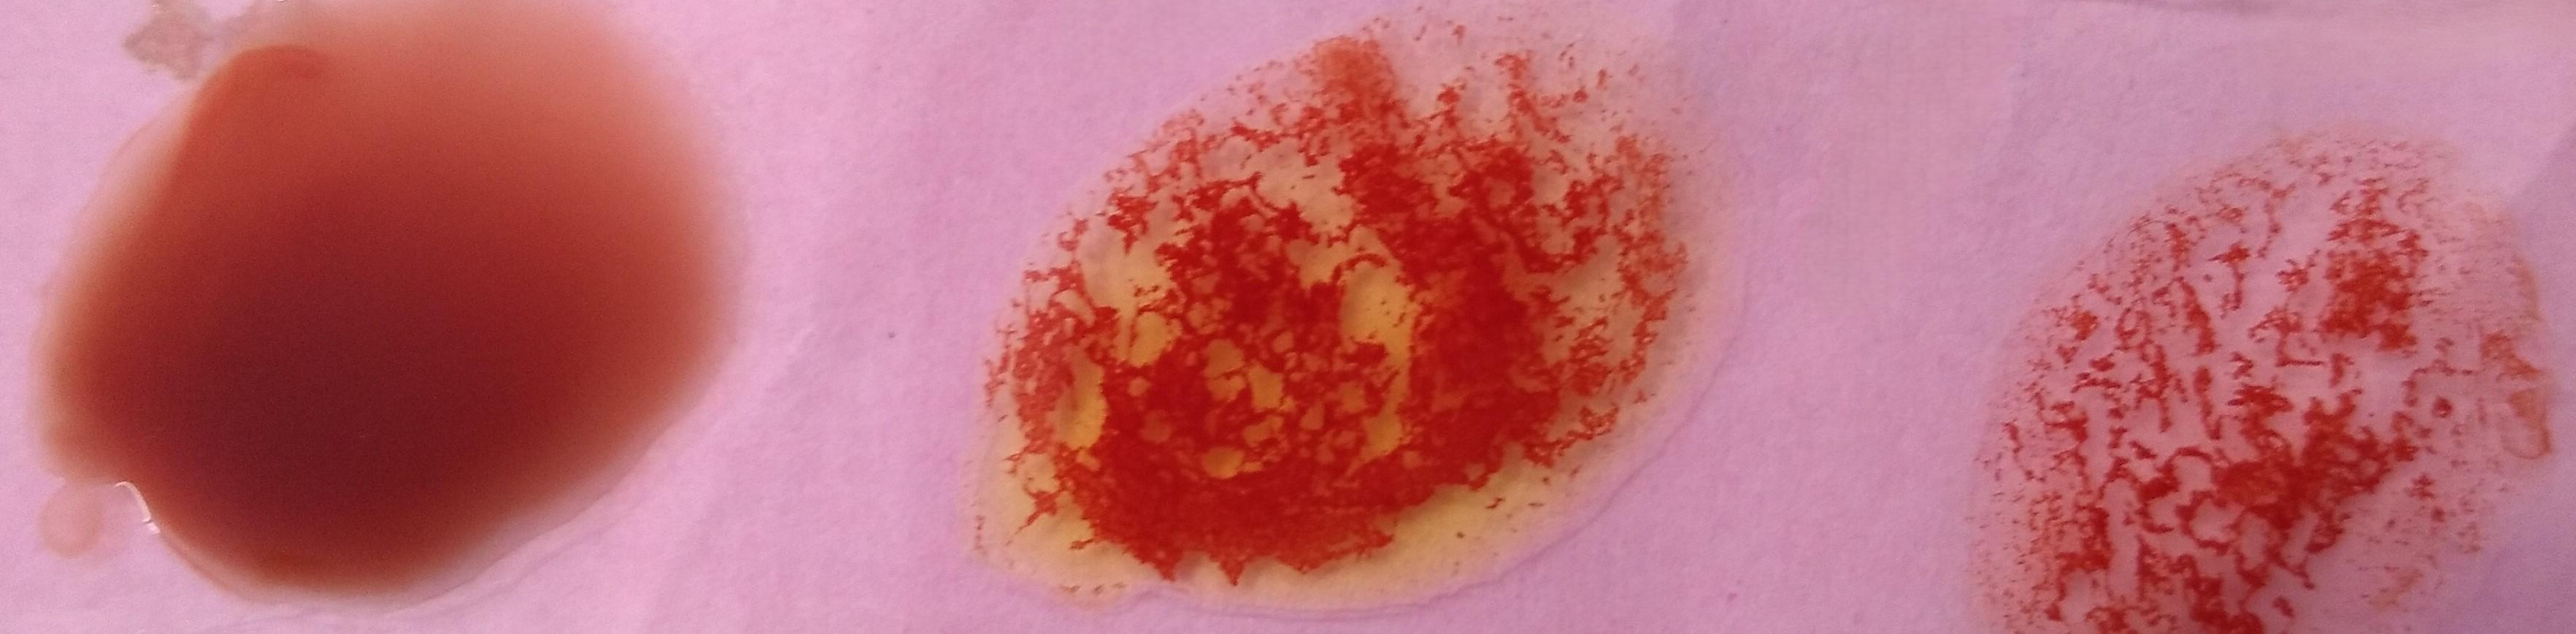B: (966, 23, 1713, 603)
D: (2063, 130, 2502, 634)
